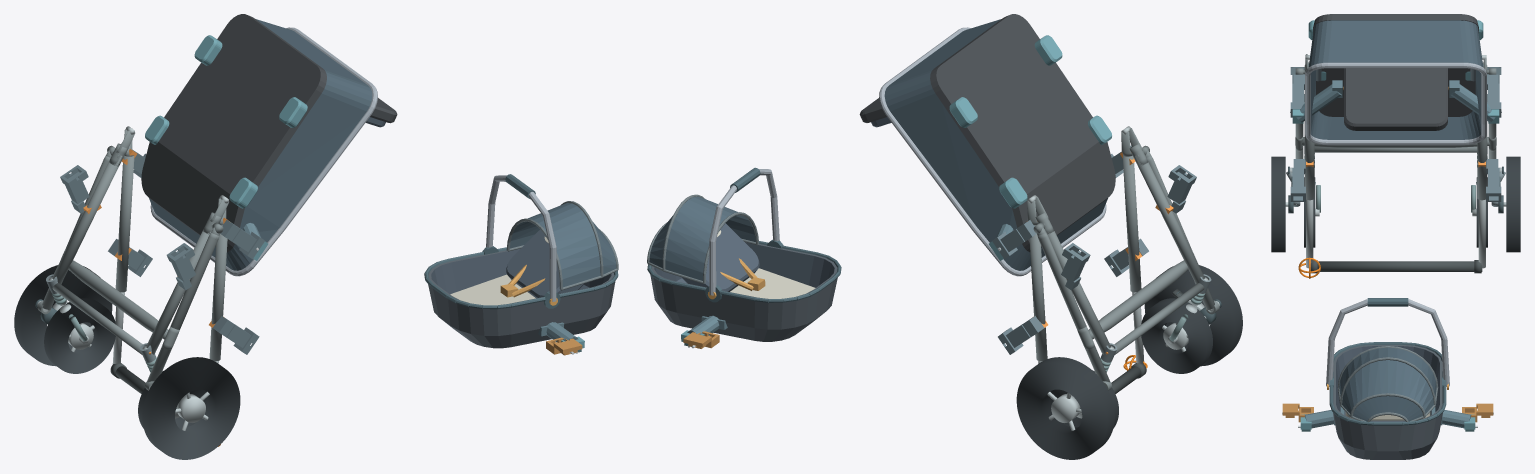
The model's file is D22_w650_state3_wheel_M.glb.
3 renders of one model, left to right at view 1: azimuth 30°, elevation 25°; view 2: azimuth 150°, elevation 25°; view 3: azimuth 270°, elevation 25°, orthographic. The views are drawn at different scales.
Visible parts, largest first — view 1: D22_Lower, D22_Upper, RL_tire.011, FR_tire.011, RR_tire.011, main_upper_1.012, main_lower_1.012, V46_rearbar.011, V46_rear_leg_-1.011, main_upper_-1.012, main_lower_-1.012, front_fixed_round_tube.011 (+5 smaller); view 2: D22_Lower, D22_Upper, RR_tire.011, FL_tire.011, RL_tire.011, main_upper_-1.012, V46_rearbar.011, main_lower_-1.012, V46_rear_leg_1.011, main_upper_1.012, main_lower_1.012, front_fixed_round_tube.011 (+5 smaller); view 3: D22_Lower, D22_Upper, round_handle.013, D22_Lower_Mount_M, RL_tire.011, RR_tire.011, D22_Upper_Mount_H, front_fixed_round_tube.011, main_upper_1.012, main_upper_-1.012, Universal_Cabin_Receiver_H_1, Universal_Cabin_Receiver_H_-1 (+9 smaller).
Boxes of the visible parts, x1=… form: D22_Lower: x1=141, y1=14, x2=397, y2=276; D22_Upper: x1=424, y1=174, x2=618, y2=348; RL_tire.011: x1=142, y1=357, x2=240, y2=459; FR_tire.011: x1=44, y1=298, x2=115, y2=373; RR_tire.011: x1=14, y1=265, x2=112, y2=366; main_upper_1.012: x1=115, y1=155, x2=134, y2=292; main_lower_1.012: x1=52, y1=155, x2=122, y2=284; V46_rearbar.011: x1=68, y1=260, x2=168, y2=339; V46_rear_leg_-1.011: x1=147, y1=232, x2=219, y2=382; main_upper_-1.012: x1=209, y1=225, x2=227, y2=361; main_lower_-1.012: x1=146, y1=229, x2=212, y2=354; front_fixed_round_tube.011: x1=52, y1=283, x2=142, y2=354; D22_Lower: x1=859, y1=14, x2=1115, y2=276; D22_Upper: x1=647, y1=167, x2=841, y2=341; RR_tire.011: x1=1016, y1=357, x2=1114, y2=459; FL_tire.011: x1=1141, y1=298, x2=1212, y2=373; RL_tire.011: x1=1144, y1=265, x2=1242, y2=366; main_upper_-1.012: x1=1123, y1=155, x2=1141, y2=292; V46_rearbar.011: x1=1088, y1=260, x2=1188, y2=339; main_lower_-1.012: x1=1135, y1=155, x2=1204, y2=283; V46_rear_leg_1.011: x1=1037, y1=232, x2=1109, y2=382; main_upper_1.012: x1=1029, y1=225, x2=1047, y2=361; main_lower_1.012: x1=1045, y1=230, x2=1110, y2=354; front_fixed_round_tube.011: x1=1114, y1=283, x2=1204, y2=354; D22_Lower: x1=1305, y1=14, x2=1486, y2=145; D22_Upper: x1=1326, y1=298, x2=1449, y2=459; round_handle.013: x1=1317, y1=261, x2=1482, y2=271; D22_Lower_Mount_M: x1=1290, y1=80, x2=1501, y2=123; RL_tire.011: x1=1271, y1=156, x2=1285, y2=252; RR_tire.011: x1=1506, y1=156, x2=1520, y2=252; D22_Upper_Mount_H: x1=1298, y1=407, x2=1477, y2=431; front_fixed_round_tube.011: x1=1314, y1=146, x2=1477, y2=152; main_upper_1.012: x1=1477, y1=90, x2=1487, y2=200; main_upper_-1.012: x1=1304, y1=90, x2=1314, y2=200; Universal_Cabin_Receiver_H_1: x1=1486, y1=159, x2=1501, y2=201; Universal_Cabin_Receiver_H_-1: x1=1290, y1=159, x2=1305, y2=201.
Size of the model in its own units: 1.72 by 1.09 by 0.781.
